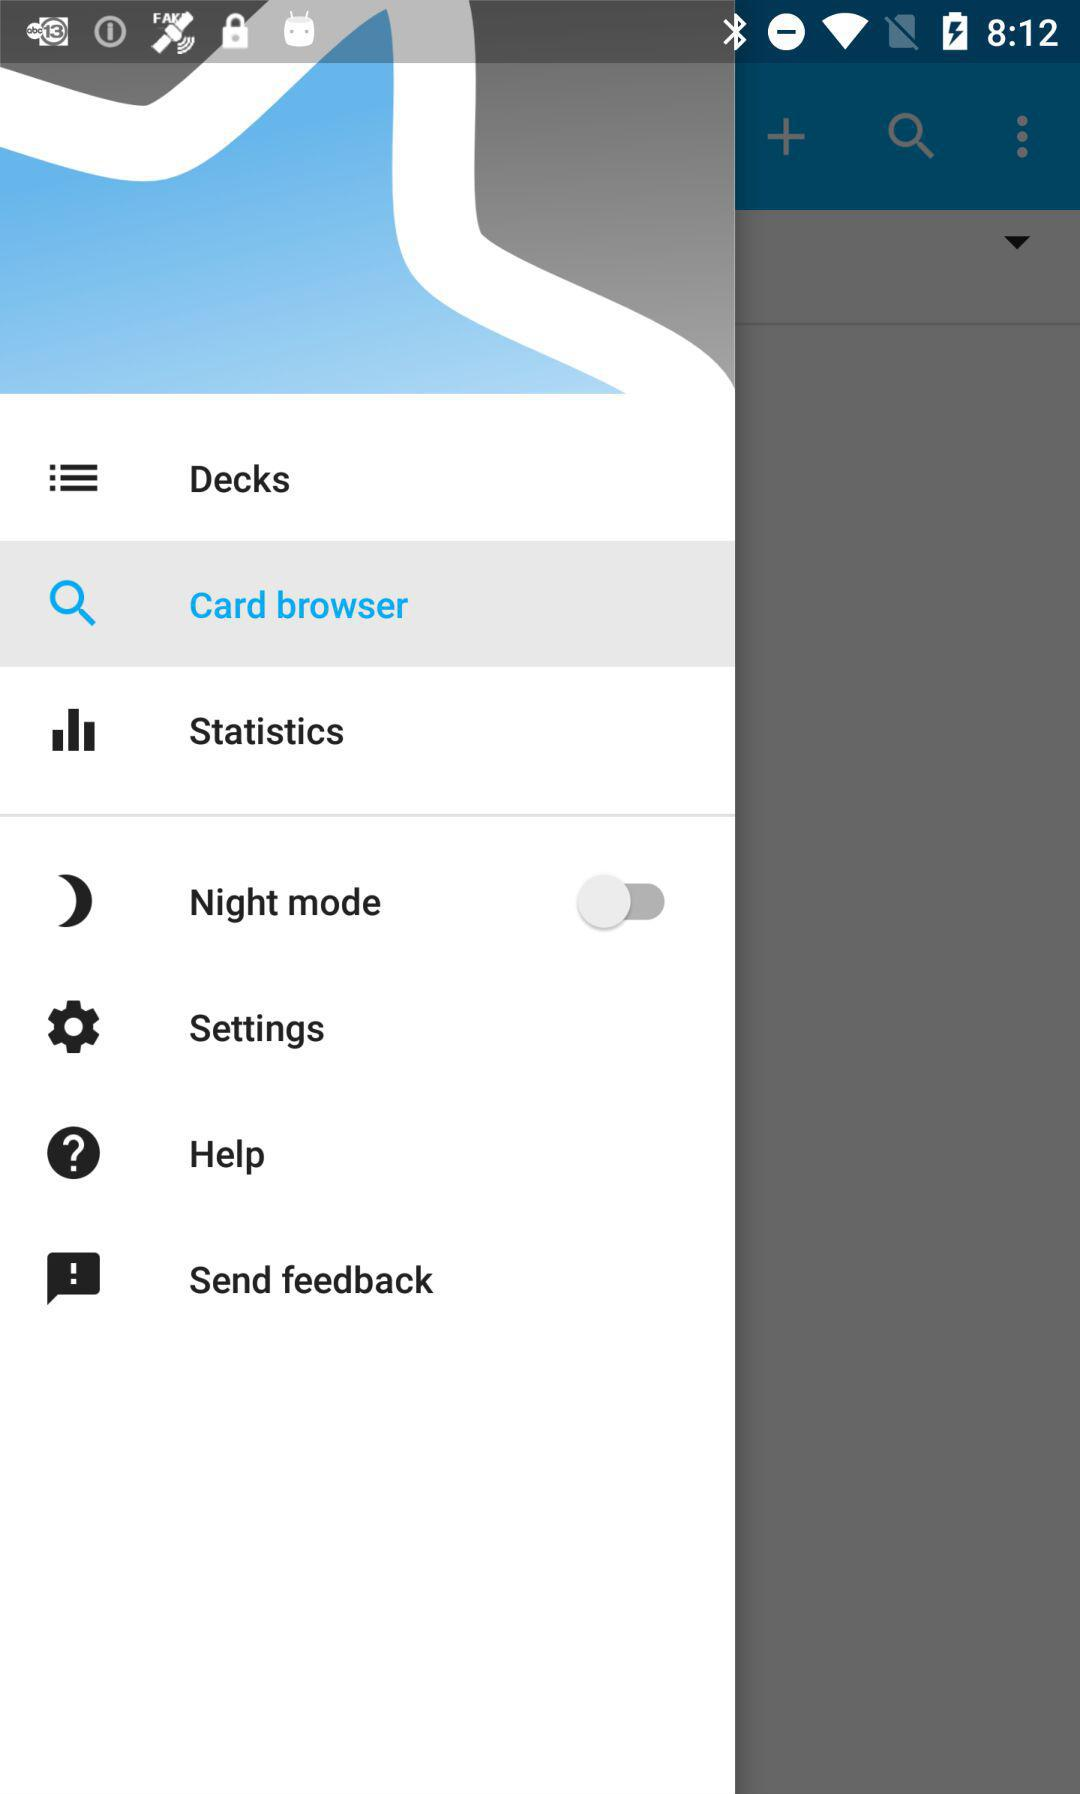Drawer: (1, 64, 735, 1794)
Icon: (47, 1251, 102, 1306), (47, 1126, 102, 1180), (47, 1000, 101, 1055), (888, 113, 937, 161), (49, 579, 97, 628), (53, 709, 97, 753), (49, 463, 100, 495), (767, 118, 807, 158), (1016, 117, 1030, 161), (1003, 237, 1030, 251)
Image: (56, 873, 94, 928)
Switch: (575, 874, 666, 932)
Text: (190, 1263, 436, 1296), (191, 885, 382, 925), (190, 589, 410, 621), (190, 1014, 325, 1051), (190, 715, 345, 747), (191, 463, 291, 495), (191, 1138, 266, 1176)
UpperTaskBar: (1, 1, 1080, 64)
